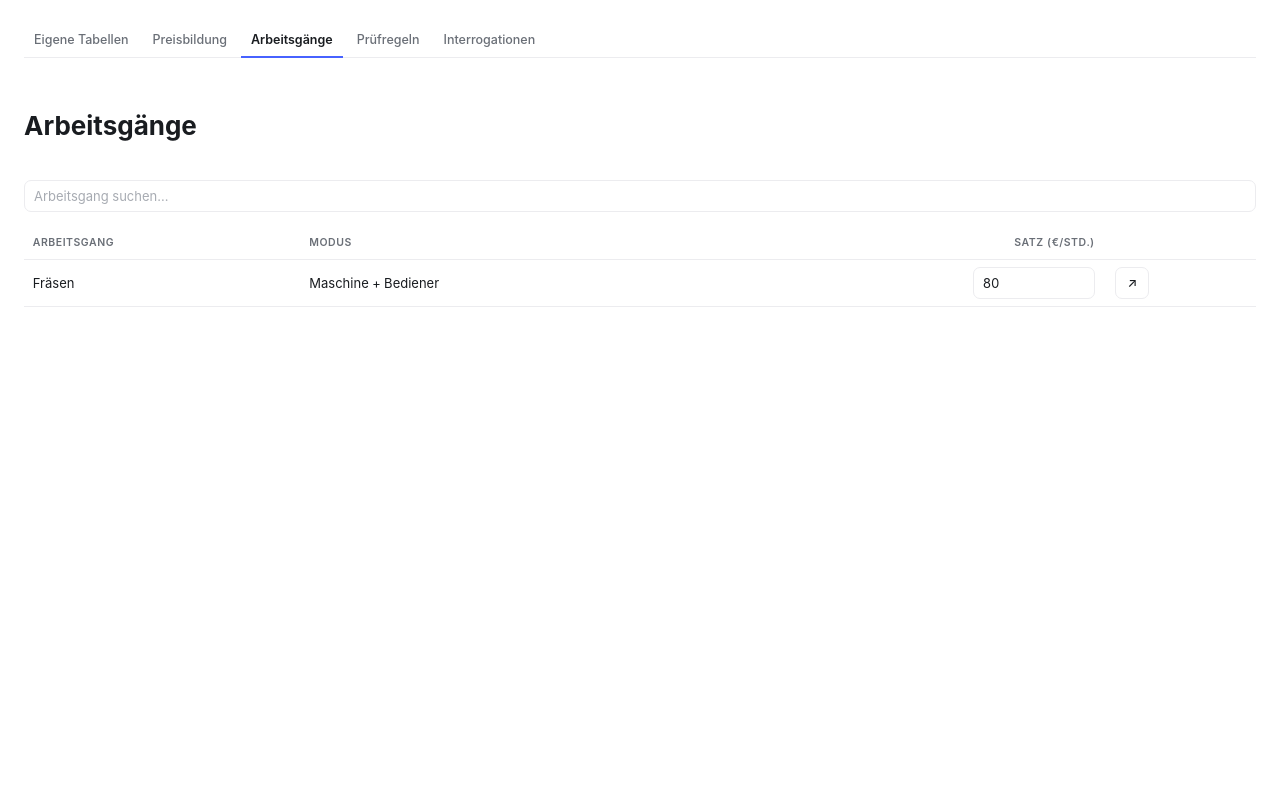
Test case: OpDefDrawer Variables table (M4.14) › shows a German error when the eye toggle fails to save
The image size is (1280, 800).
Click the button "↗" at (1132, 283), box [1115,267,1149,299]
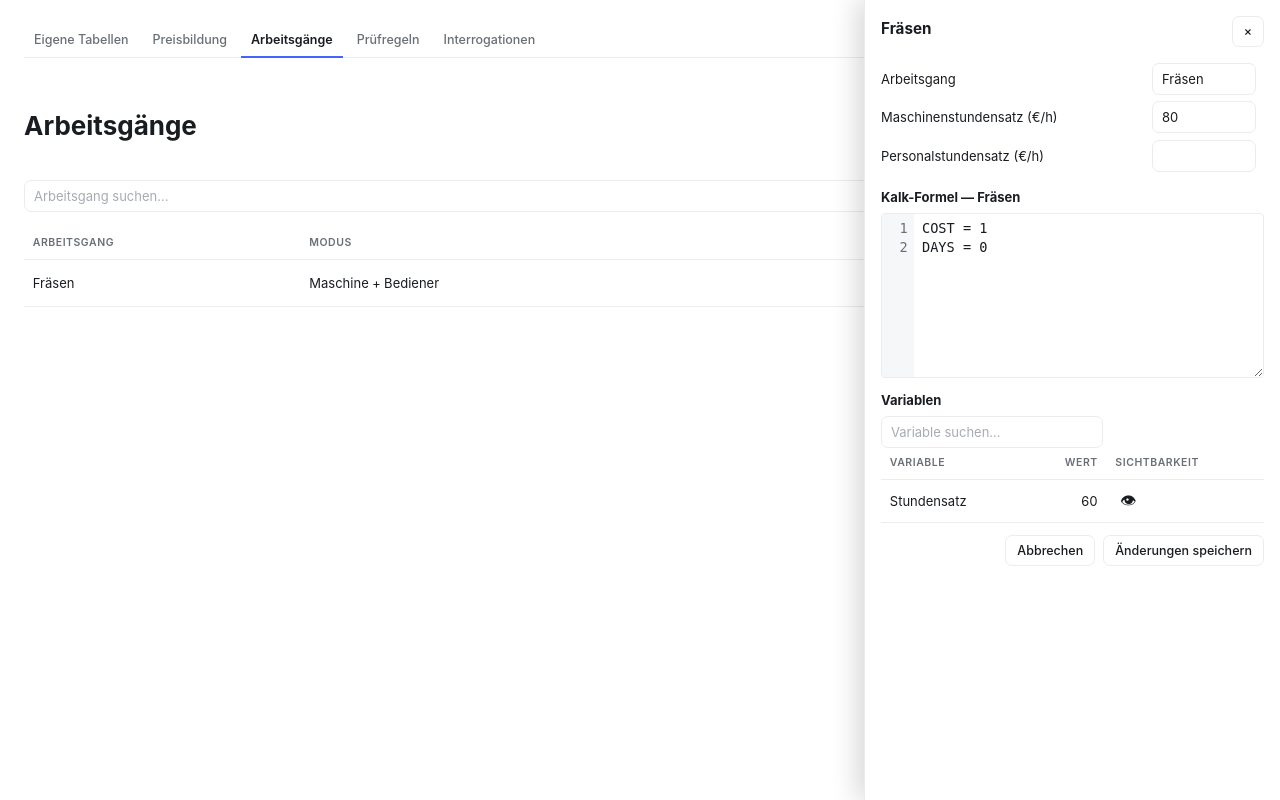
Expected: the text "Stundensatz" is shown, [881,479,1028,522]
Click the button named "Sichtbarkeit von Stundensatz umschalten" at (1128, 501), box [1115,487,1141,515]
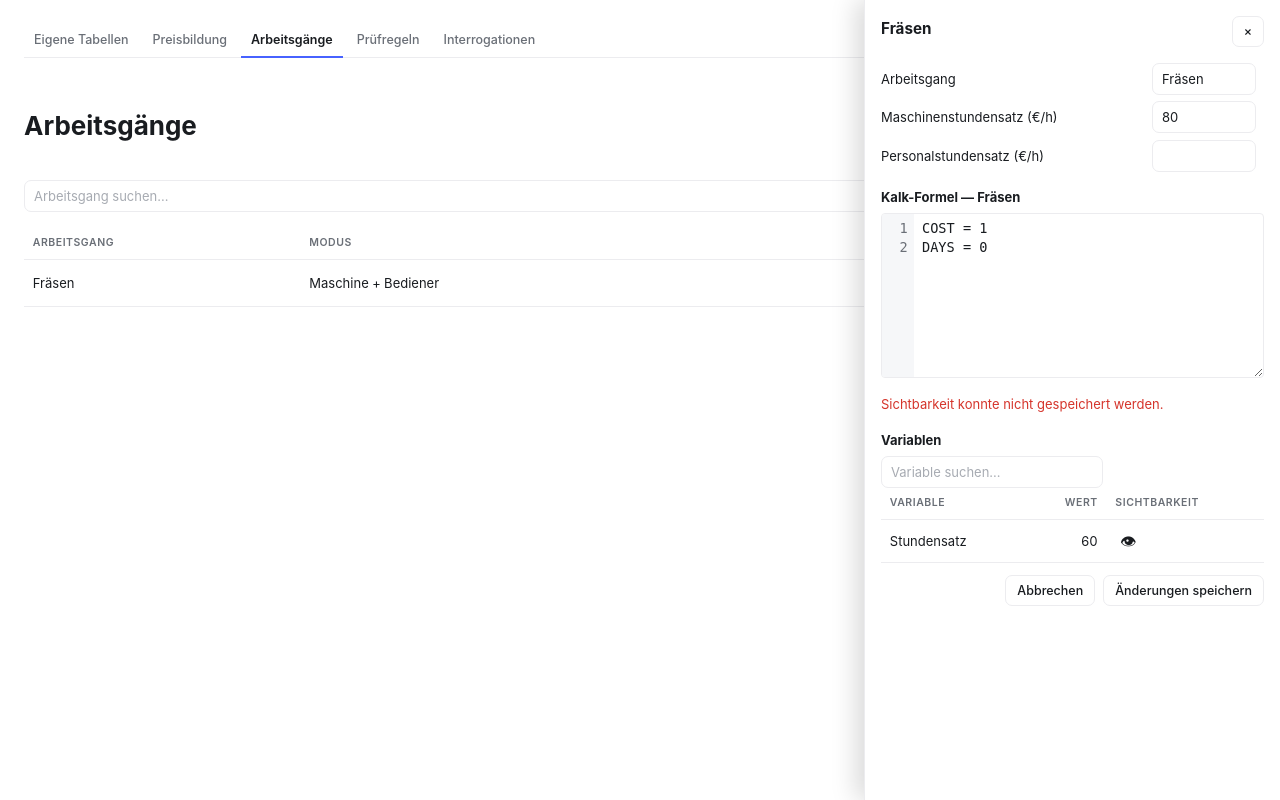
Expected: the text "Sichtbarkeit konnte nicht gespeichert werden." is shown, [881,396,1164,412]
